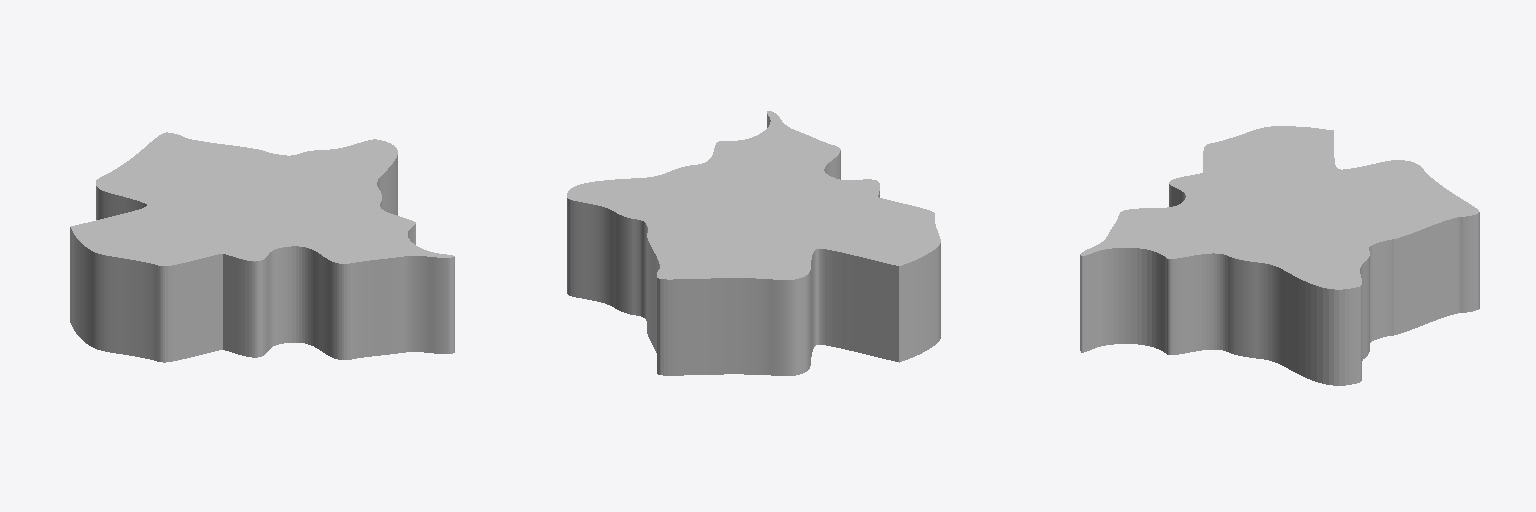
Rendered from Africa_01.obj.
The picture shows the model from 3 angles: view 1: azimuth 30°, elevation 25°; view 2: azimuth 150°, elevation 25°; view 3: azimuth 270°, elevation 25°; orthographic projection.
Parts seen in each view (by area): view 1: Africa_01_path4220; view 2: Africa_01_path4220; view 3: Africa_01_path4220.
Part boxes in pixels (bbox=[...]): Africa_01_path4220: bbox=[70, 132, 454, 362]; Africa_01_path4220: bbox=[567, 111, 940, 375]; Africa_01_path4220: bbox=[1080, 126, 1479, 385].
Bounding box in the file's own units: 0.3644 × 0.1 × 0.376.